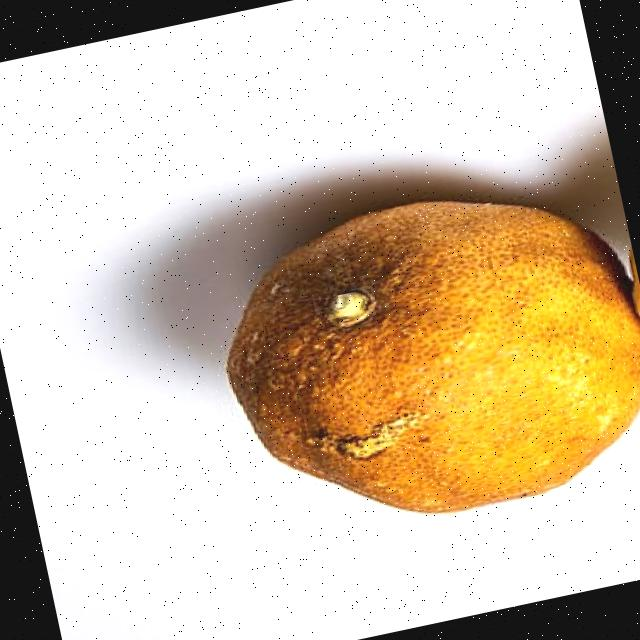overripe: (191, 155, 640, 560)
